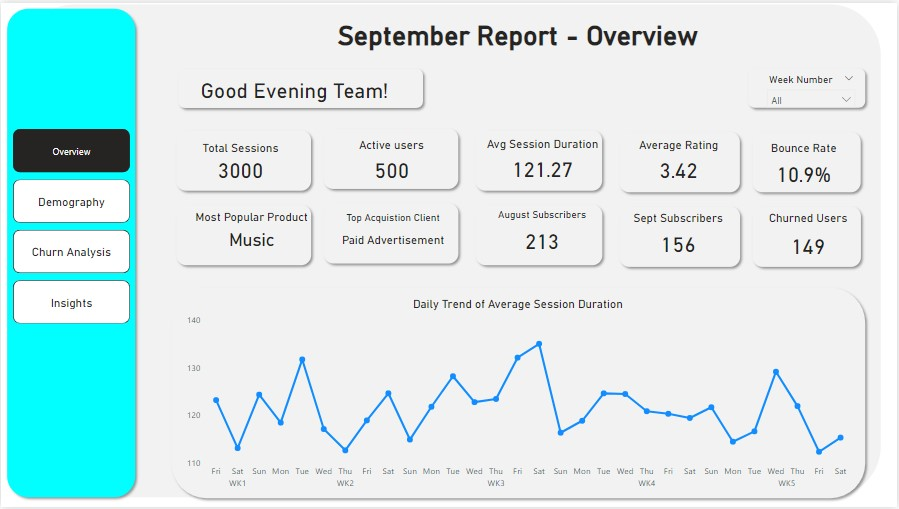

The dashboard page shown, as its layout file describes it:
{"tool":"powerbi","page":{"name":"Overview","canvas":[1280,720],"ordinal":0},"visuals":[{"type":"card","title":"Total Sessions","fields":{"Values":["Measures Table.Total Sessions"]},"box":[260.8,197,161.6,62.4],"z":0},{"type":"card","title":"Active users","fields":{"Values":["Measures Table.Active Users"]},"box":[480.3,192.7,155.5,70.2],"z":1000},{"type":"card","title":"Avg Session Duration","fields":{"Values":["Measures Table.Average Session Duration"]},"box":[686,191.3,175.7,70.9],"z":2000},{"type":"card","title":"Average Rating","fields":{"Values":["Measures Table.Average Rating"]},"box":[891.5,192.8,153.1,69.4],"z":3000},{"type":"card","title":"Bounce Rate","fields":{"Values":["Measures Table.Bounce Rate"]},"box":[1079.1,196.8,136.3,71.6],"z":4000},{"type":"card","title":"Most Popular Product","fields":{"Values":["Measures Table.Most Popular Product Type"]},"box":[269.3,296.2,175.7,65.2],"z":5000},{"type":"card","title":"Top Acquistion Client","fields":{"Values":["Measures Table.top Acquisition Channel"]},"box":[480.5,299.1,160.2,65.2],"z":6000},{"type":"card","title":"August Subscribers","fields":{"Values":["Measures Table.Avg Subscribed Users"]},"box":[701.6,294.8,143.1,73.7],"z":7000},{"type":"card","title":"Sept Subscribers","fields":{"Values":["Measures Table.Sept Subscribed Users"]},"box":[891.5,297.6,151.7,73.7],"z":8000},{"type":"card","title":"Churned Users","fields":{"Values":["Measures Table.Churned Users"]},"box":[1075.7,297.6,154.5,79.4],"z":9000},{"type":"card","fields":{"Values":["Measures Table.Welcome Text"]},"box":[260.8,96.4,314.6,53.9],"z":10000},{"type":"lineChart","title":"Daily Trend of Average Session Duration","fields":{"Category":["Date Table.Week Number","Date Table.Day Name"],"Y":["Measures Table.Average Session Duration"]},"box":[259.4,419.5,956.7,287.7],"z":11000},{"type":"slicer","fields":{"Values":["Date Table.Week Number"]},"box":[1084.3,96.4,146,53.9],"z":12000},{"type":"textbox","box":[259.4,18.4,956.7,53.9],"z":13000},{"type":"pageNavigator","box":[17,180,167.2,280.6],"z":14000}]}

Visuals, with their boxes in screenshot pixels (x1, y1, x2, y2), scaled from the page's 1280x720 canvas onto the 899x509 screenshot:
"Total Sessions" card: locate(183, 139, 297, 183)
"Active users" card: locate(337, 136, 447, 186)
"Avg Session Duration" card: locate(482, 135, 605, 185)
"Average Rating" card: locate(626, 136, 734, 185)
"Bounce Rate" card: locate(758, 139, 854, 190)
"Most Popular Product" card: locate(189, 209, 313, 255)
"Top Acquistion Client" card: locate(337, 211, 450, 258)
"August Subscribers" card: locate(493, 208, 593, 261)
"Sept Subscribers" card: locate(626, 210, 733, 262)
"Churned Users" card: locate(756, 210, 864, 267)
card - Measures Table.Welcome Text: locate(183, 68, 404, 106)
"Daily Trend of Average Session Duration" lineChart: locate(182, 297, 854, 500)
slicer - Date Table.Week Number: locate(762, 68, 864, 106)
textbox: locate(182, 13, 854, 51)
pageNavigator: locate(12, 127, 129, 326)
